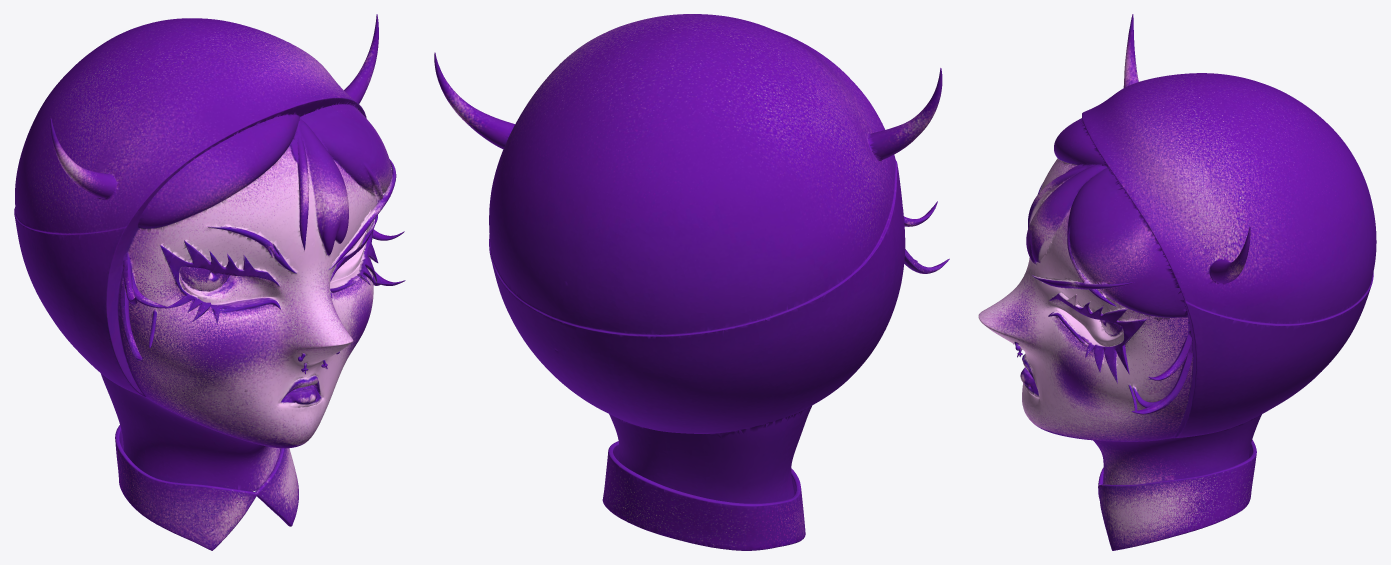
The model's file is demondollweb.glb.
The picture shows the model from 3 angles, left to right: view 1: azimuth 30°, elevation 25°; view 2: azimuth 150°, elevation 25°; view 3: azimuth 270°, elevation 25°; orthographic projection. The views are drawn at different scales.
Visible parts, largest first — view 1: stylized character 3d model; view 2: stylized character 3d model; view 3: stylized character 3d model.
Part boxes in pixels (x1,y1,x2,y2): stylized character 3d model: [14, 14, 405, 550]; stylized character 3d model: [434, 14, 949, 550]; stylized character 3d model: [978, 14, 1376, 550].
Bounding box in the file's own units: 0.8496 × 0.9802 × 0.7956.
Materials: 1 (1 with a texture image).
